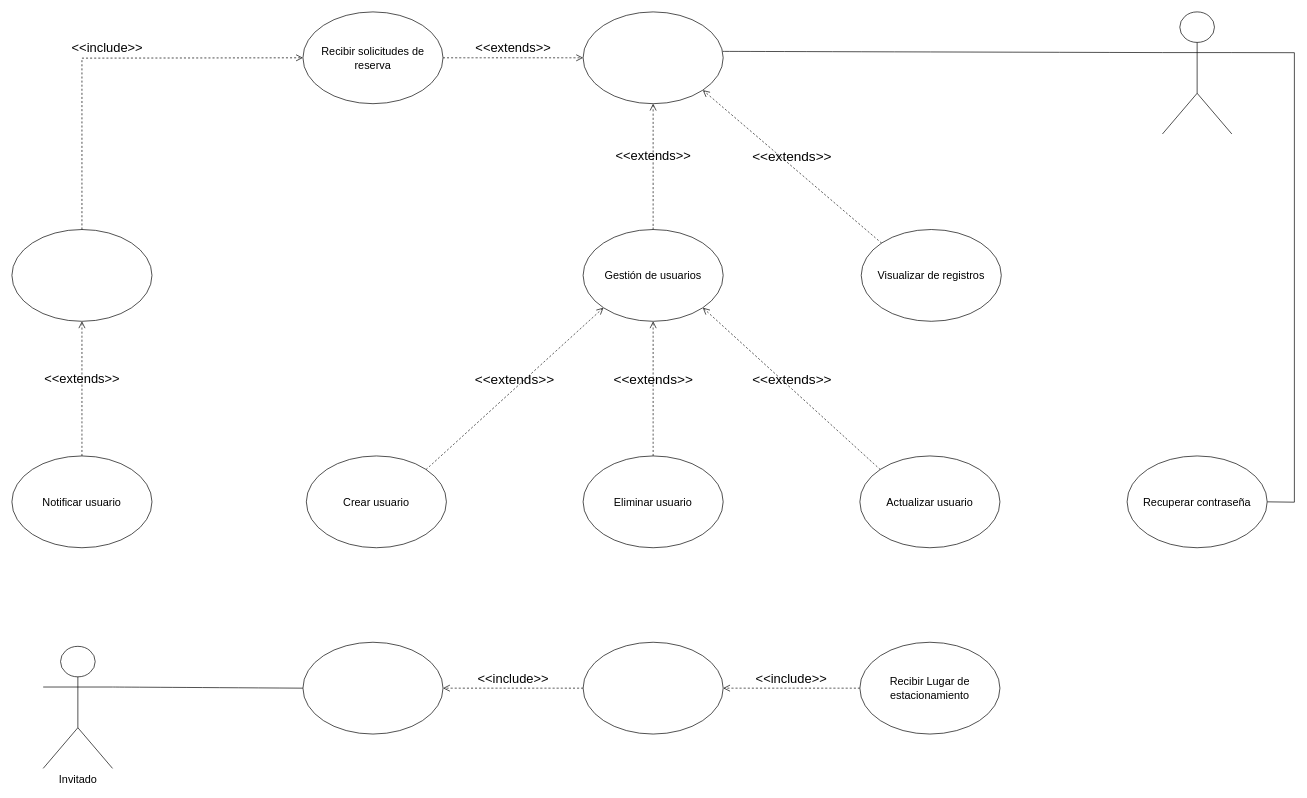
Image size: 1307x798. Some labels were removed from this diagram. Here are the shapes that lost their labels. From the top down, the centre of each, then its label:
At point 652,57: "Iniciar sesión".
At point 1197,72: "Administrador".
At point 81,275: "Responder solicitud".
At point 372,688: "Leer QR".
At point 652,688: "Completar formulario".
